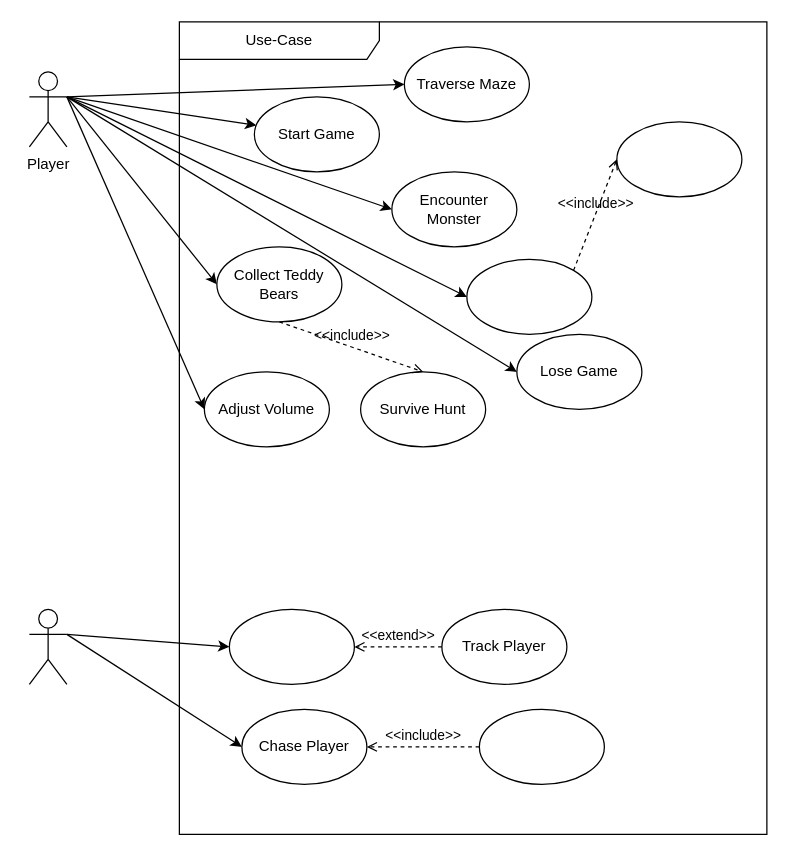
The diagram is 789 pixels wide and 856 high, and some of its shapes have lost their labels. Each missing label, with the centre of its shape:
"Attack Player" goes at (x=541, y=746).
"Monster" goes at (x=47, y=646).
"Monster Death" goes at (x=679, y=159).
"Wander Maze" goes at (x=291, y=646).
"Win Game" goes at (x=529, y=296).
